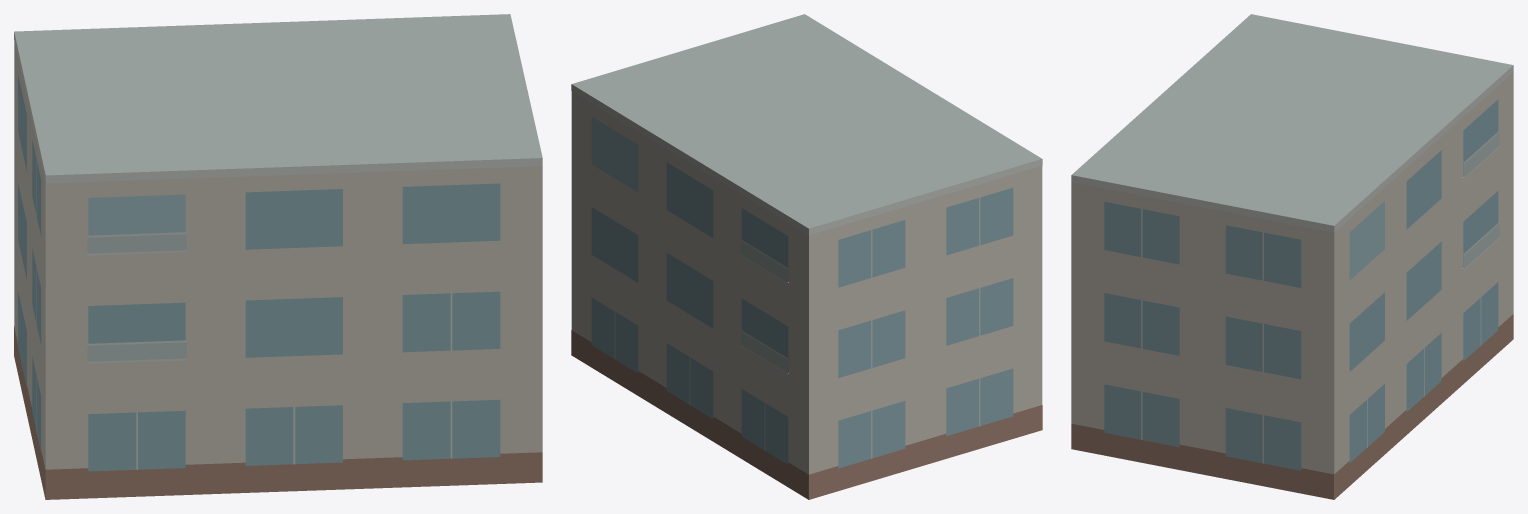
File: survey-upis-33006082.glb
3 views of the same model, side by side, from view 1: azimuth 30°, elevation 25°; view 2: azimuth 150°, elevation 25°; view 3: azimuth 270°, elevation 25° (orthographic). The views are drawn at different scales.
Parts seen in each view (by area): view 1: survey-upis-33006082.tmp; view 2: survey-upis-33006082.tmp; view 3: survey-upis-33006082.tmp.
Part boxes in pixels (x1,y1,x2,y2): survey-upis-33006082.tmp: (14, 14, 542, 499); survey-upis-33006082.tmp: (571, 14, 1042, 499); survey-upis-33006082.tmp: (1071, 14, 1513, 499).
Size of the model in its own units: 16.26 by 9.8 by 14.35.
